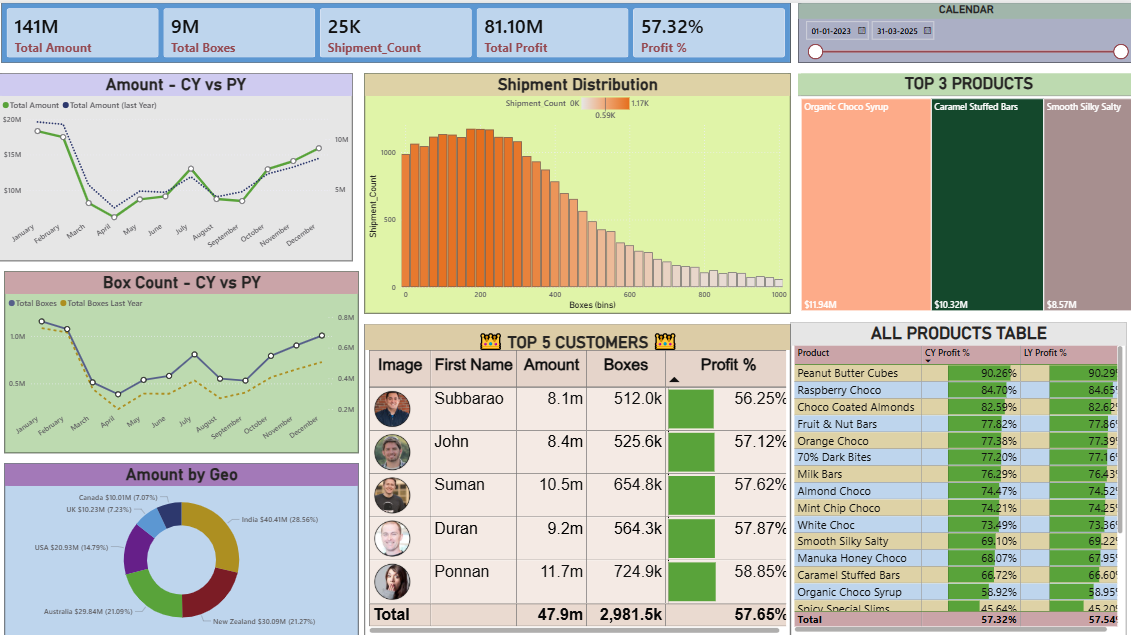

Layout of this report page (visuals, bound fields, positions):
{"tool":"powerbi","page":{"name":"Page 6","canvas":[1920,1080],"ordinal":5},"visuals":[{"type":"lineChart","title":"Amount - CY vs PY","fields":{"Y2":["calendar.Total Amount (last Year)"],"Y":["shipments.Total Amount"],"Category":["calendar.month_name"]},"box":[17.5,117.5,590,312.5],"z":0},{"type":"lineChart","title":"Box Count - CY vs PY","fields":{"Category":["calendar.month_name"],"Y":["shipments.Toal Boxes"],"Y2":["shipments.Total Boxes Last Year"]},"box":[27.5,447.5,590,302.5],"z":1000},{"type":"donutChart","title":"Amount by Geo","fields":{"Category":["locations.Geo"],"Y":["shipments.Total Amount"]},"box":[26.7,766.7,590,290],"z":2000},{"type":"clusteredColumnChart","title":"Shipment Distribution ","fields":{"Y":["shipments.Shipment_Count"],"Category":["shipments.Boxes (bins)"]},"box":[627.5,117.5,710,400],"z":3000},{"type":"tableEx","title":"👑 TOP 5 CUSTOMERS  👑","fields":{"Values":["people.Picture","people.First Name","shipments.Total Amount","shipments.Total Boxes","shipments.Profit %"]},"box":[627.5,535,710,522.5],"z":4000},{"type":"treemap","title":"TOP 3 PRODUCTS","fields":{"Values":["shipments.Total Amount"],"Group":["products.Product"]},"box":[1350,117.5,570,400],"z":5000},{"type":"tableEx","title":"ALL PRODUCTS TABLE","fields":{"Values":["products.Product","shipments.Profit %","shipments.Last Year Profit %"]},"box":[1337.8,533.3,560,522.2],"z":6000},{"type":"cardVisual","fields":{"Data":["shipments.Total Amount","shipments.Total Boxes","shipments.Shipment_Count","shipments.Total Profit","shipments.Profit %"]},"box":[22.5,0,1315,100],"z":7000},{"type":"slicer","title":"CALENDAR","fields":{"Values":["calendar.cal_date"]},"box":[1350,0,560,100],"z":8000}]}

Visuals, with their boxes in screenshot pixels (x1, y1, x2, y2), scaled from the page's 1920x1080 canvas onto the 1131x635 screenshot:
"Amount - CY vs PY" lineChart: (10, 69, 358, 253)
"Box Count - CY vs PY" lineChart: (16, 263, 364, 441)
"Amount by Geo" donutChart: (16, 451, 363, 621)
"Shipment Distribution " clusteredColumnChart: (370, 69, 788, 304)
"👑 TOP 5 CUSTOMERS  👑" tableEx: (370, 315, 788, 622)
"TOP 3 PRODUCTS" treemap: (795, 69, 1130, 304)
"ALL PRODUCTS TABLE" tableEx: (788, 314, 1118, 621)
cardVisual - shipments.Total Amount x shipments.Total Boxes: (13, 0, 788, 59)
"CALENDAR" slicer: (795, 0, 1125, 59)
